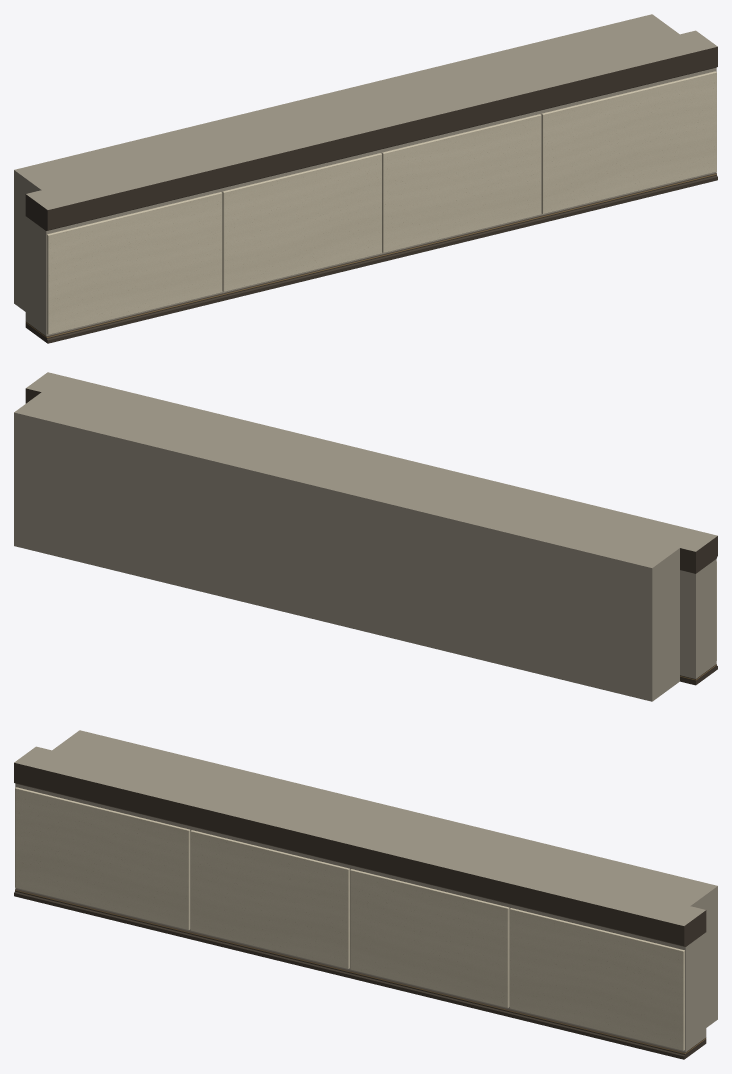
File: mall-shop-door-header-2m.glb
3 views of the same model, one above another, from view 1: azimuth 30°, elevation 25°; view 2: azimuth 150°, elevation 25°; view 3: azimuth 330°, elevation 25° (orthographic).
Visible parts, largest first — view 1: Stepped lintel and bronze returns LOD0, Limestone fascia panel 1, Limestone fascia panel 4, Limestone fascia panel 2, Limestone fascia panel 3; view 2: Stepped lintel and bronze returns LOD0; view 3: Stepped lintel and bronze returns LOD0, Limestone fascia panel 4, Limestone fascia panel 1, Limestone fascia panel 3, Limestone fascia panel 2.
Boxes of the visible parts, x1=… form: Stepped lintel and bronze returns LOD0: x1=14, y1=14, x2=717, y2=343; Limestone fascia panel 1: x1=47, y1=192, x2=222, y2=334; Limestone fascia panel 4: x1=541, y1=71, x2=716, y2=213; Limestone fascia panel 2: x1=222, y1=153, x2=381, y2=291; Limestone fascia panel 3: x1=382, y1=114, x2=541, y2=252; Stepped lintel and bronze returns LOD0: x1=14, y1=372, x2=717, y2=701; Stepped lintel and bronze returns LOD0: x1=14, y1=730, x2=717, y2=1059; Limestone fascia panel 4: x1=509, y1=908, x2=684, y2=1050; Limestone fascia panel 1: x1=15, y1=787, x2=190, y2=929; Limestone fascia panel 3: x1=350, y1=869, x2=509, y2=1007; Limestone fascia panel 2: x1=190, y1=830, x2=349, y2=968.
Size of the model in its own units: 2.1 by 0.4 by 0.27.
Materials: 4 (1 with a texture image).
